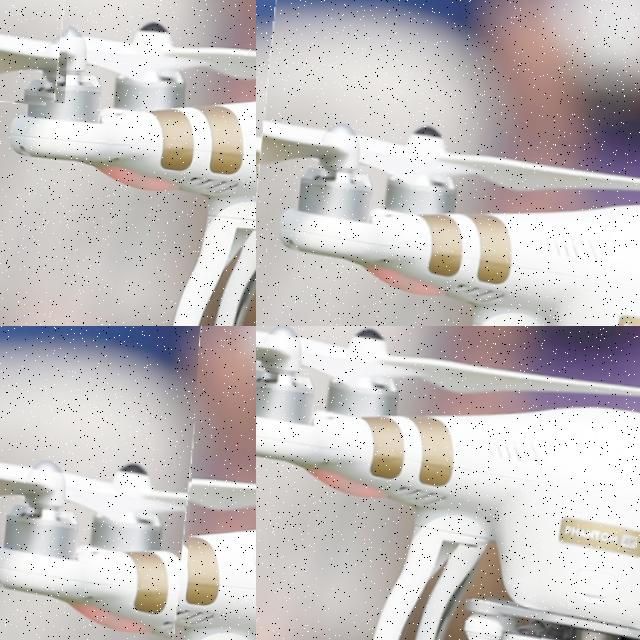drone: (256, 0, 640, 326), (256, 326, 640, 640), (0, 326, 207, 640)
